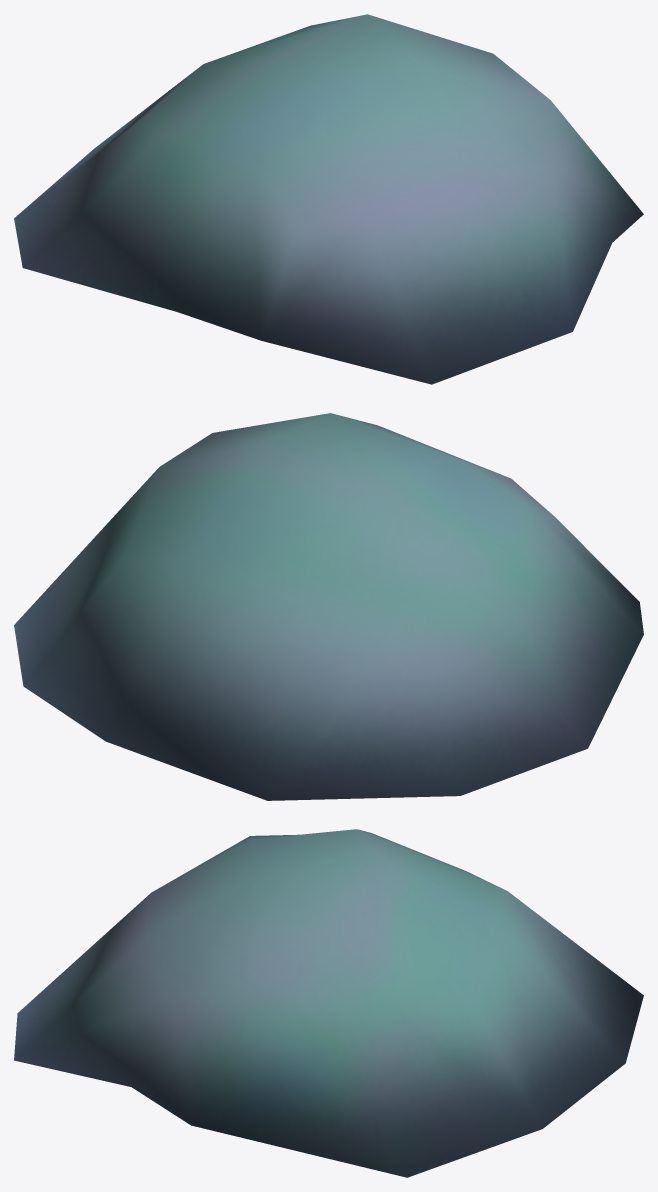
The model's file is Rock3.glb.
3 views of the same model, one above another, from view 1: azimuth 30°, elevation 25°; view 2: azimuth 150°, elevation 25°; view 3: azimuth 270°, elevation 25° (orthographic). The views are drawn at different scales.
Parts seen in each view (by area): view 1: Rock3; view 2: Rock3; view 3: Rock3.
Boxes of the visible parts, left/top/right/bottom form: Rock3: left=14, top=14, right=643, bottom=384; Rock3: left=14, top=413, right=643, bottom=800; Rock3: left=14, top=829, right=643, bottom=1177.
Bounding box in the file's own units: 2.55 × 0.9514 × 2.59.
1 material, 1 textured.
